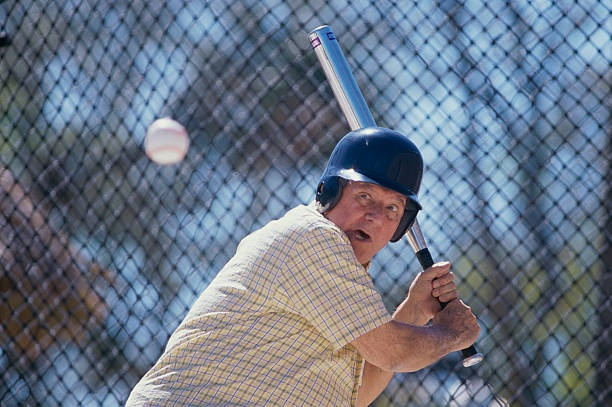bita: (417, 232, 483, 367), (308, 19, 376, 133)
